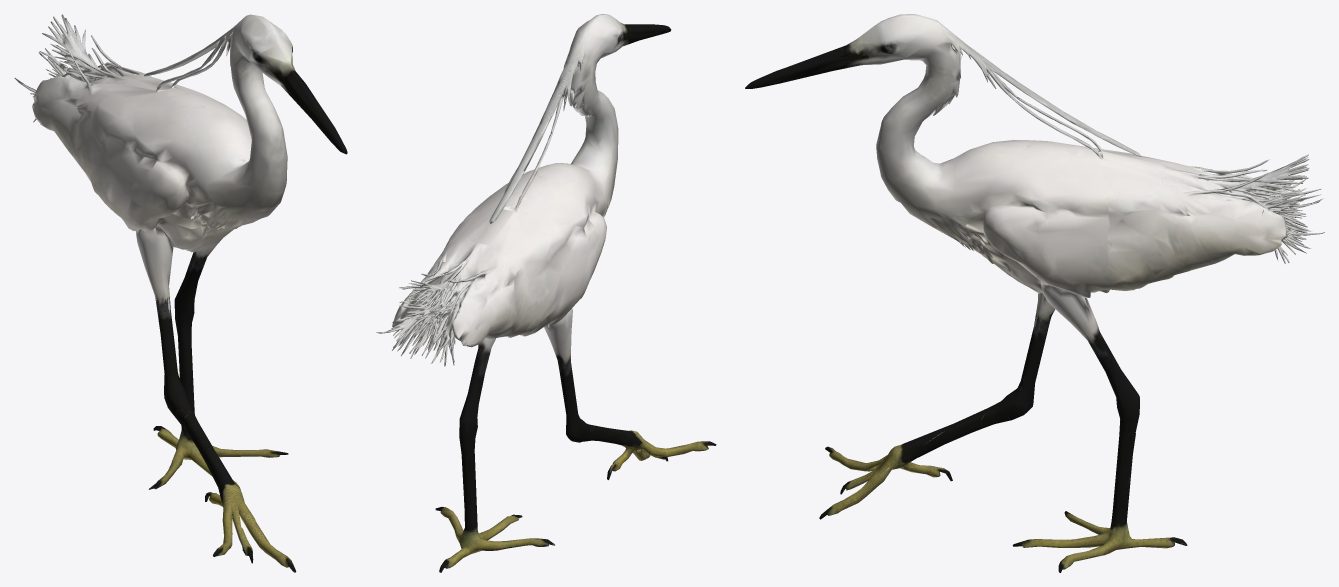
The model's file is egret.glb.
3 views of the same model, side by side, from view 1: azimuth 30°, elevation 25°; view 2: azimuth 150°, elevation 25°; view 3: azimuth 270°, elevation 25° (orthographic). The views are drawn at different scales.
Visible parts, largest first — view 1: egret; view 2: egret; view 3: egret.
Part boxes in pixels (bbox=[...]): egret: bbox=[14, 14, 347, 572]; egret: bbox=[376, 14, 716, 572]; egret: bbox=[745, 14, 1324, 572].
Bounding box in the file's own units: 0.7728 × 2 × 2.03.
Materials: 1 (1 with a texture image).
